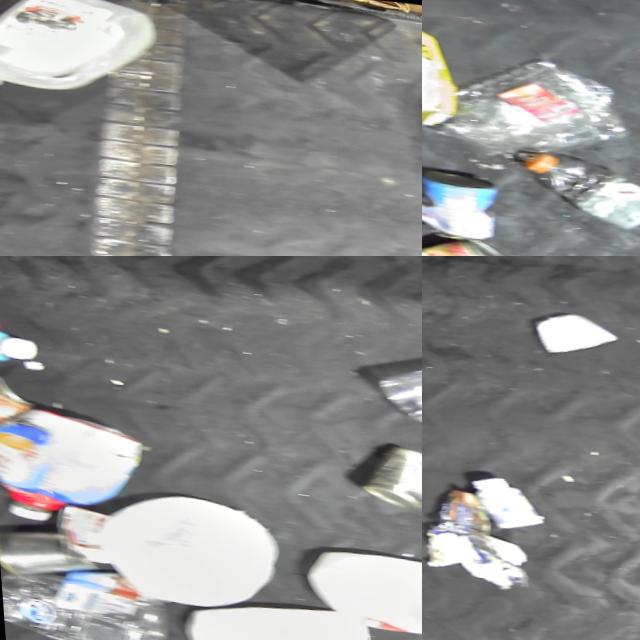can: (0, 520, 99, 584), (343, 438, 422, 508), (422, 166, 498, 234), (422, 232, 504, 256)
milk_jug: (90, 486, 281, 614), (0, 0, 161, 112), (292, 540, 422, 640), (169, 591, 375, 640)
non_white_jug: (0, 402, 152, 532), (422, 8, 464, 127)
plastic_bottle: (462, 54, 622, 148), (0, 568, 166, 640), (513, 145, 640, 232)
